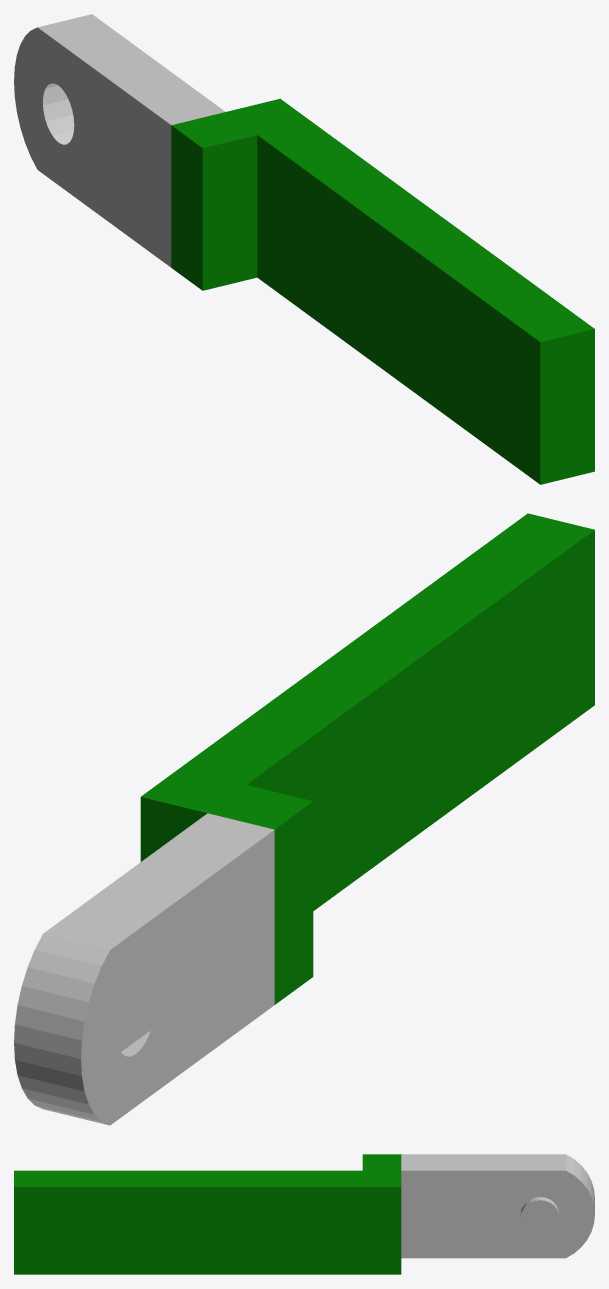
The model's file is Lever_only_green.dae.
3 views of the same model, one above another, from view 1: azimuth 30°, elevation 25°; view 2: azimuth 150°, elevation 25°; view 3: azimuth 270°, elevation 25° (orthographic). The views are drawn at different scales.
Parts seen in each view (by area): view 1: instance_0.002, instance_0.003; view 2: instance_0.002, instance_0.003; view 3: instance_0.002, instance_0.003, instance_0.
Boxes of the visible parts, x1,y1,x2,y2 form: instance_0.002: (171, 98, 594, 484); instance_0.003: (14, 14, 225, 267); instance_0.002: (140, 513, 594, 1004); instance_0.003: (14, 813, 274, 1125); instance_0.002: (14, 1154, 401, 1274); instance_0.003: (401, 1154, 594, 1258); instance_0: (520, 1197, 559, 1235).
Bounding box in the file's own units: 0.02 × 0.15 × 0.025.
